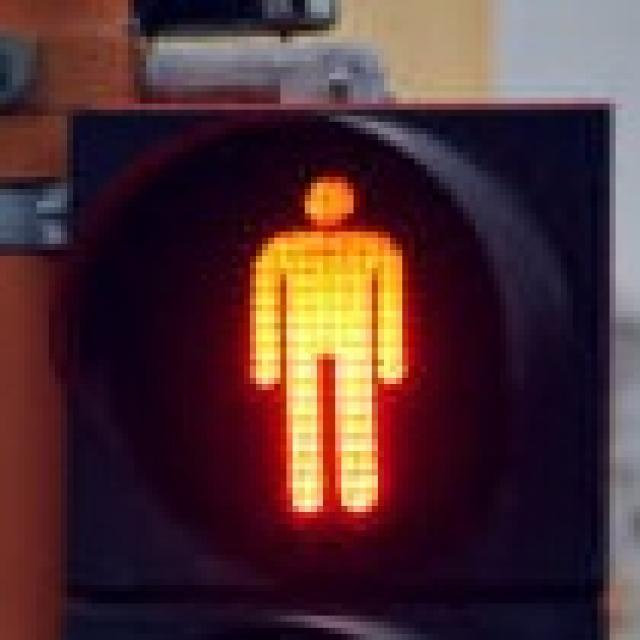red-crossing: (220, 153, 420, 520)
